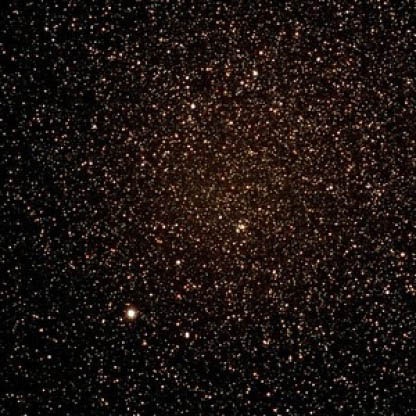Lyra: (114, 295, 144, 330), (160, 251, 190, 281), (240, 62, 271, 90), (225, 209, 256, 237), (178, 92, 203, 120), (176, 322, 199, 345)
